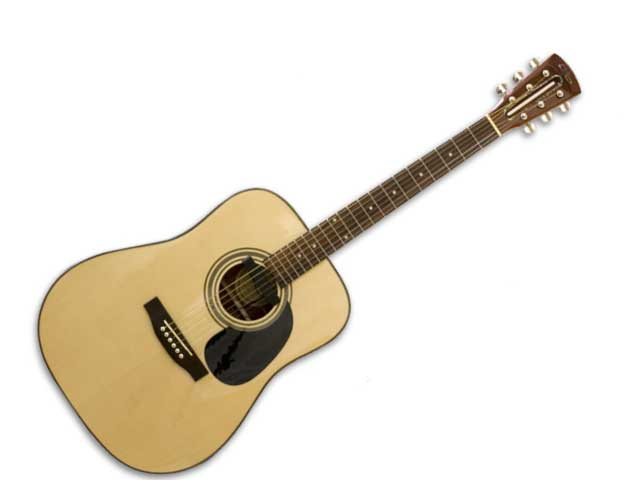guitar: (37, 51, 585, 476)
